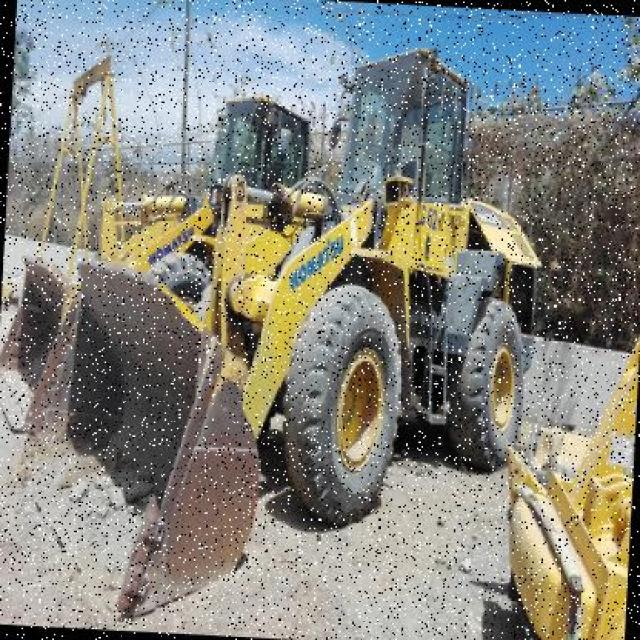buldozerpayloadergrader: (6, 24, 552, 618)
